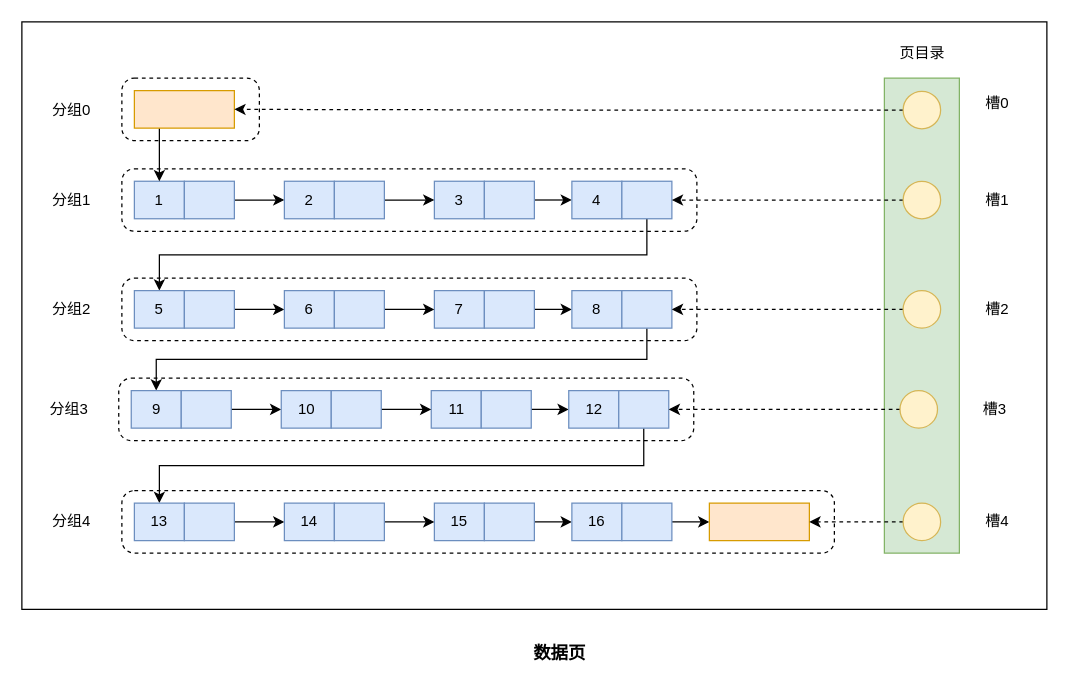
The diagram is 1069 pixels wide and 688 high, and some of its shapes have lost their labels. The centre of each missing label's shape, as x and y in pixels:
"最大记录" belongs at [758,521].
"最小记录" belongs at [183,108].
